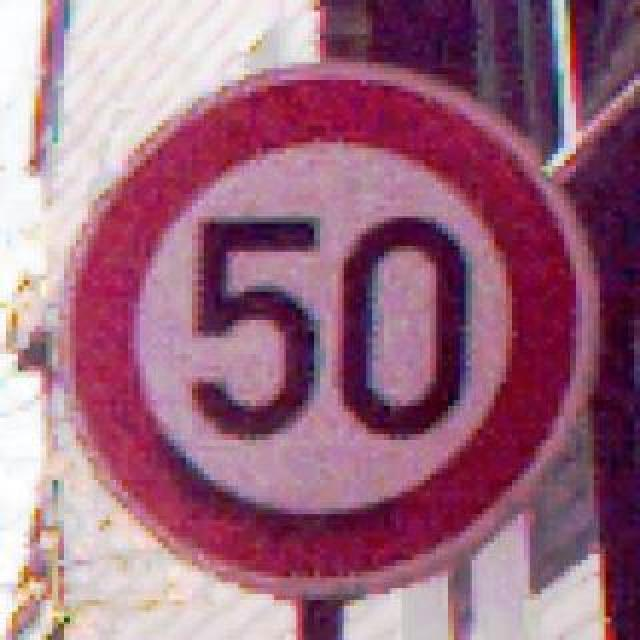50 kph: (48, 56, 600, 600)
